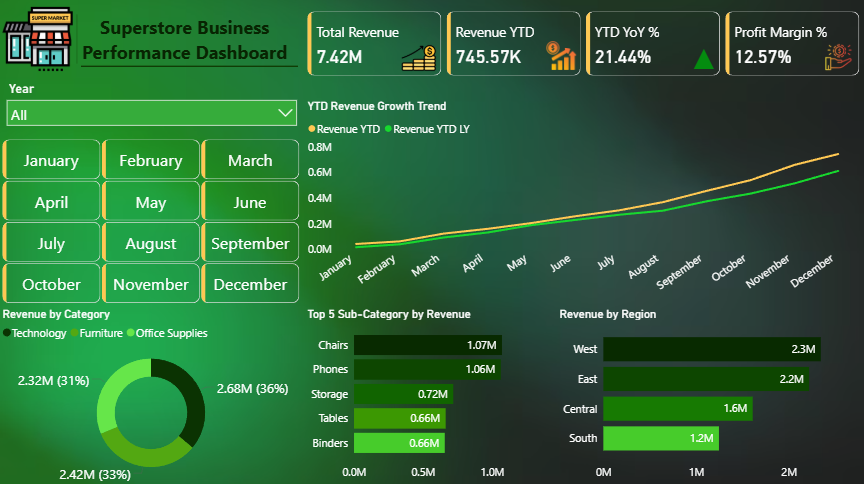

The dashboard page shown, as its layout file describes it:
{"tool":"powerbi","page":{"name":"Super Store dashboard","canvas":[1280,720],"ordinal":0},"visuals":[{"type":"textbox","box":[112.5,10.1,324.2,105.8],"z":0},{"type":"image","box":[0,0,114.2,117.6],"z":1000},{"type":"shape","box":[23.5,21.8,183.1,73.9],"z":2000},{"type":"shape","box":[120.9,82.3,320.8,33.6],"z":3000},{"type":"cardVisual","fields":{"Data":["Orders.Total Revenue","Orders.RevenueYTD","Orders.Revenue YTD YOY %","Orders.Profit Margin %"]},"box":[450.7,13,829.4,105.1],"z":4000},{"type":"lineChart","title":"YTD Revenue Growth Trend","fields":{"Y":["Orders.Revenue YTD","Orders.Revenue YTD LY"],"Category":["Custom calender.Month name"]},"box":[450.7,148.3,820.8,306.7],"z":5000},{"type":"slicer","fields":{"Values":["Custom calender.Year"]},"box":[1.4,115.2,449.3,85],"z":6000},{"type":"advancedSlicerVisual","fields":{"Values":["Custom calender.Month name"]},"box":[0,203,449.3,252],"z":7000},{"type":"donutChart","title":"Revenue by Category","fields":{"Y":["Orders.Total Revenue"],"Category":["Orders.Category"]},"box":[0,455,449.3,265],"z":8000},{"type":"clusteredBarChart","title":"Revenue by Region","fields":{"Category":["Orders.Region"],"Y":["Orders.Total Revenue"]},"box":[823.7,455,456.5,265],"z":9000},{"type":"clusteredBarChart","title":"Top 5 Sub-Category by Revenue","fields":{"Category":["Orders.Sub-Category"],"Y":["Orders.Total Revenue"]},"box":[450.7,455,373,265],"z":10000},{"type":"image","box":[586.1,56.2,69.1,61.9],"z":11000},{"type":"image","box":[797.8,56.2,66.2,54.7],"z":12000},{"type":"image","box":[1202.4,54.7,76.3,60.5],"z":13000},{"type":"cardVisual","fields":{"Data":["Orders.YTD tred Icon"]},"box":[1003.7,24.5,77.8,93.6],"z":14000}]}

Visuals, with their boxes in screenshot pixels (x1, y1, x2, y2), scaled from the page's 1280x720 canvas onto the 864x484 screenshot:
textbox: locate(76, 7, 295, 78)
image: locate(0, 0, 77, 79)
shape: locate(16, 15, 139, 64)
shape: locate(82, 55, 298, 78)
cardVisual - Orders.Total Revenue x Orders.RevenueYTD: locate(304, 9, 863, 79)
"YTD Revenue Growth Trend" lineChart: locate(304, 100, 858, 306)
slicer - Custom calender.Year: locate(1, 77, 304, 135)
advancedSlicerVisual - Custom calender.Month name: locate(0, 136, 303, 306)
"Revenue by Category" donutChart: locate(0, 306, 303, 483)
"Revenue by Region" clusteredBarChart: locate(556, 306, 863, 483)
"Top 5 Sub-Category by Revenue" clusteredBarChart: locate(304, 306, 556, 483)
image: locate(396, 38, 442, 79)
image: locate(539, 38, 583, 75)
image: locate(812, 37, 863, 77)
cardVisual - Orders.YTD tred Icon: locate(677, 16, 730, 79)
